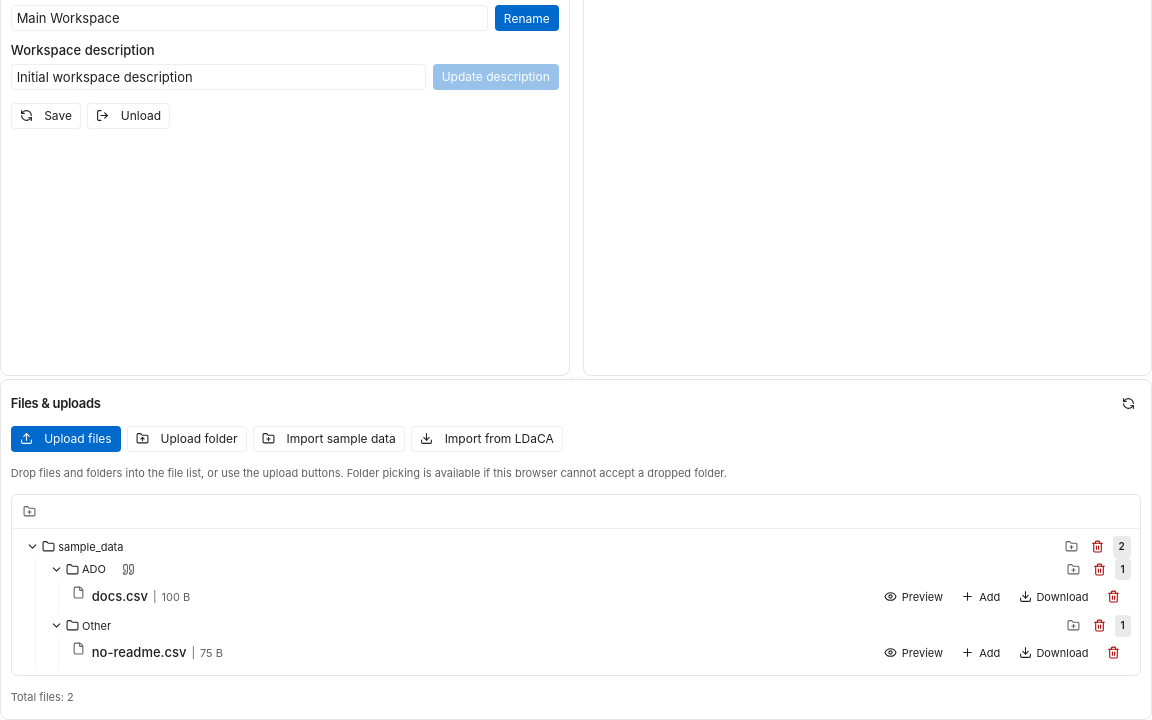
DataLoaderFeature citation UI › shows folder citation icons only for directories with readme and opens citation dialog
(page scrolled)
Check: the text "README.md" is not shown
Click the button named "view citation": x=128, y=569 [117,558,140,581]
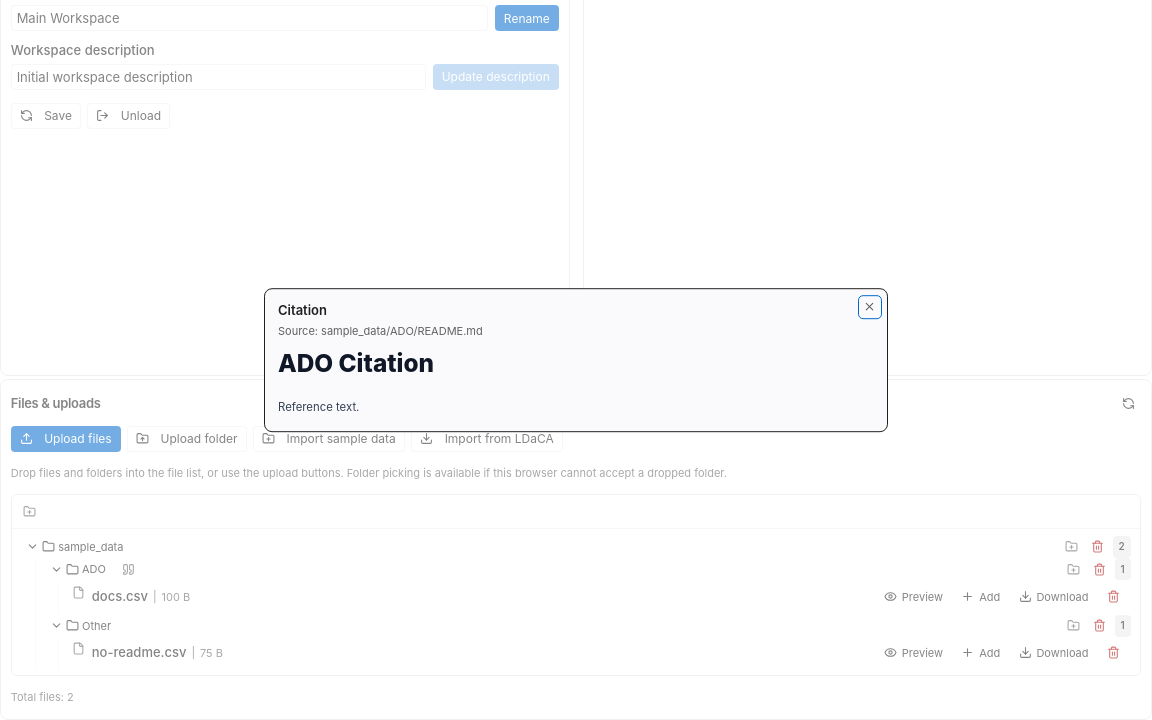
Check: the heading "Citation" is shown, box [278,302,327,318]
Check: the heading "ADO Citation" is shown, box [278,349,434,379]
Check: the text "Reference text." is shown, box [278,400,359,414]
